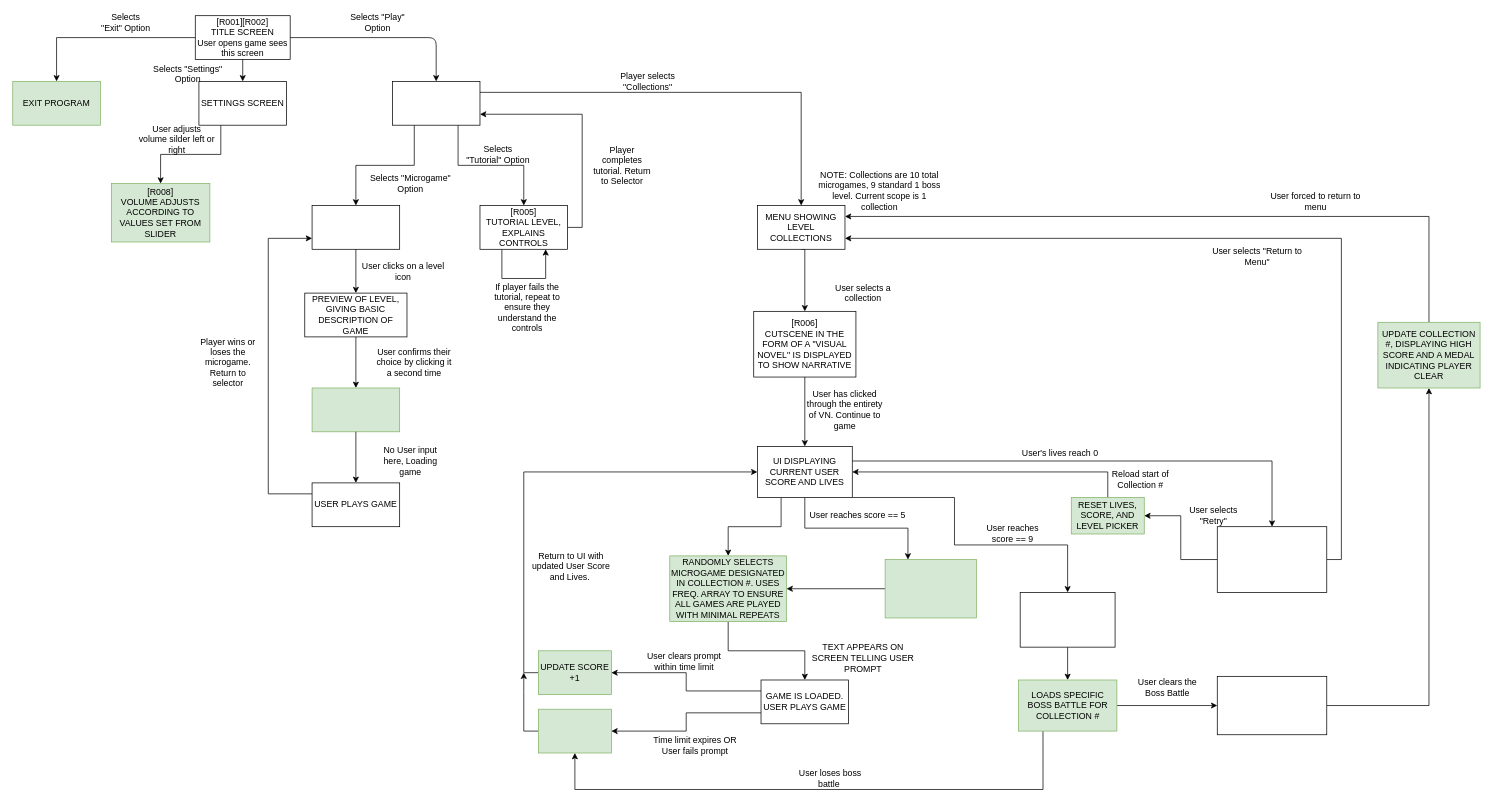
Image size: 1493x808. Some labels were removed from this diagram. Each missing label, with the box of its shape:
"BOSS BATTLE!": (1019, 592, 1115, 647)
"SPEED UP"! Game Speed increases by 50%: (884, 559, 976, 618)
"YOU WIN!": (1217, 676, 1327, 735)
[R003] LEVEL SELECTOR: (392, 81, 480, 125)
CALLS GAME MANAGER AND RETRIVES THE GAME REQUESTED: (311, 387, 400, 432)
GAME OVER! PROMPTED RETRY OR RETURN TO MENU: (1217, 526, 1327, 592)
MENU SHOWING INDIVIDUAL LEVELS: (311, 205, 400, 249)
UPDATE LIVES -1: (538, 708, 611, 753)
